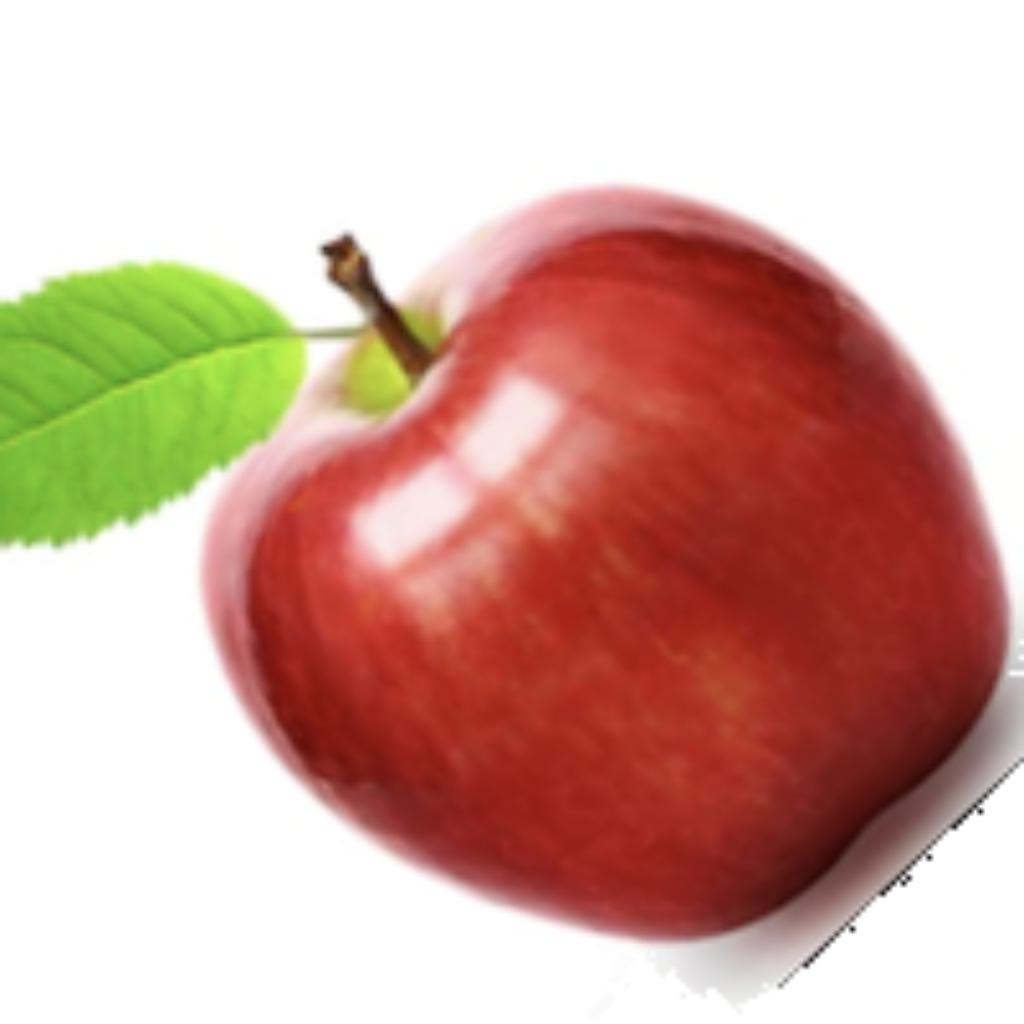apple: (0, 174, 1019, 1014)
